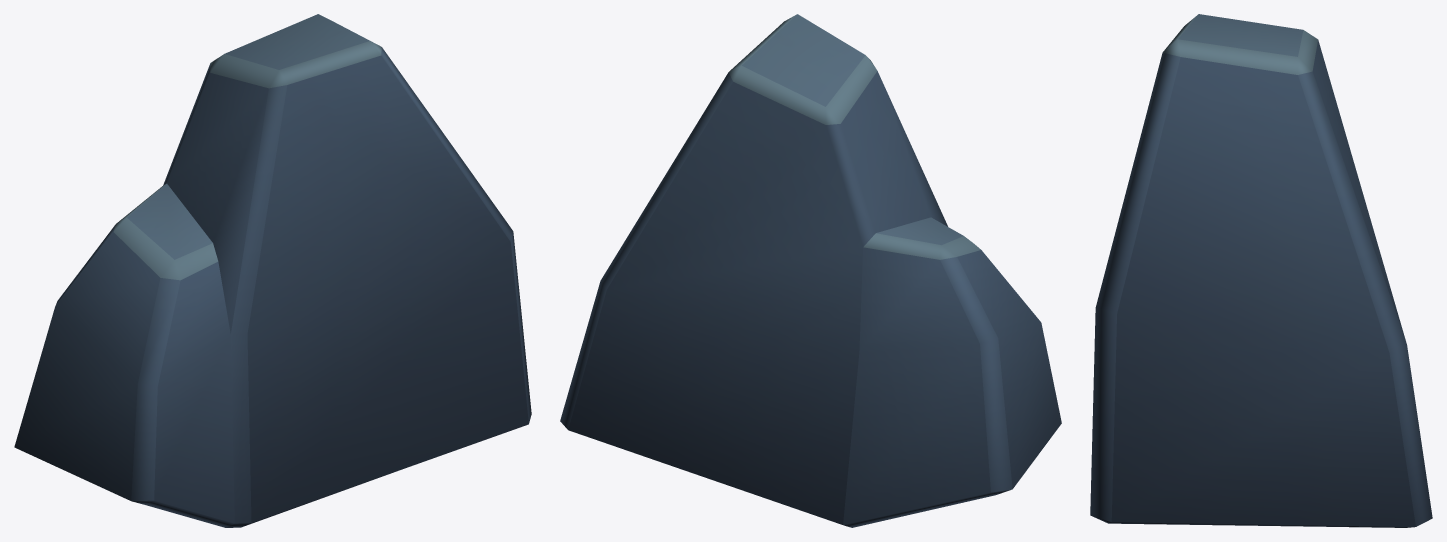
The model's file is rock_024.fbx.
3 views of the same model, side by side, from view 1: azimuth 30°, elevation 25°; view 2: azimuth 150°, elevation 25°; view 3: azimuth 270°, elevation 25° (orthographic). The views are drawn at different scales.
Parts seen in each view (by area): view 1: rock_024; view 2: rock_024; view 3: rock_024.
Part boxes in pixels (x1,y1,x2,y2): rock_024: (14,14,531,527); rock_024: (560,14,1061,527); rock_024: (1090,14,1432,527).
Size of the model in its own units: 256 by 246 by 163.
1 material, 1 textured.
